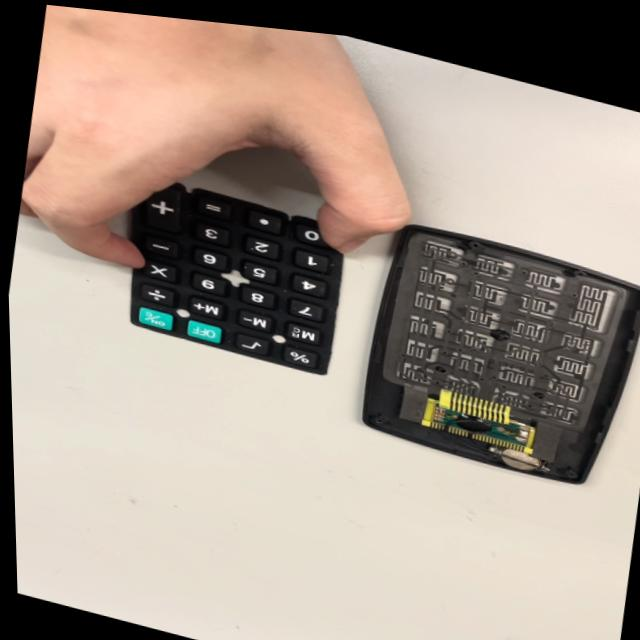front_panel: (332, 203, 640, 509)
objects: (82, 156, 359, 389)
